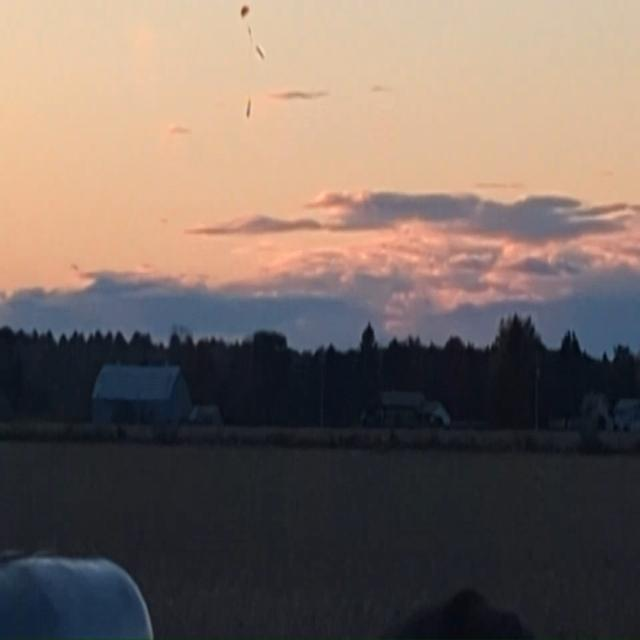Rocket: (246, 98, 251, 118)
